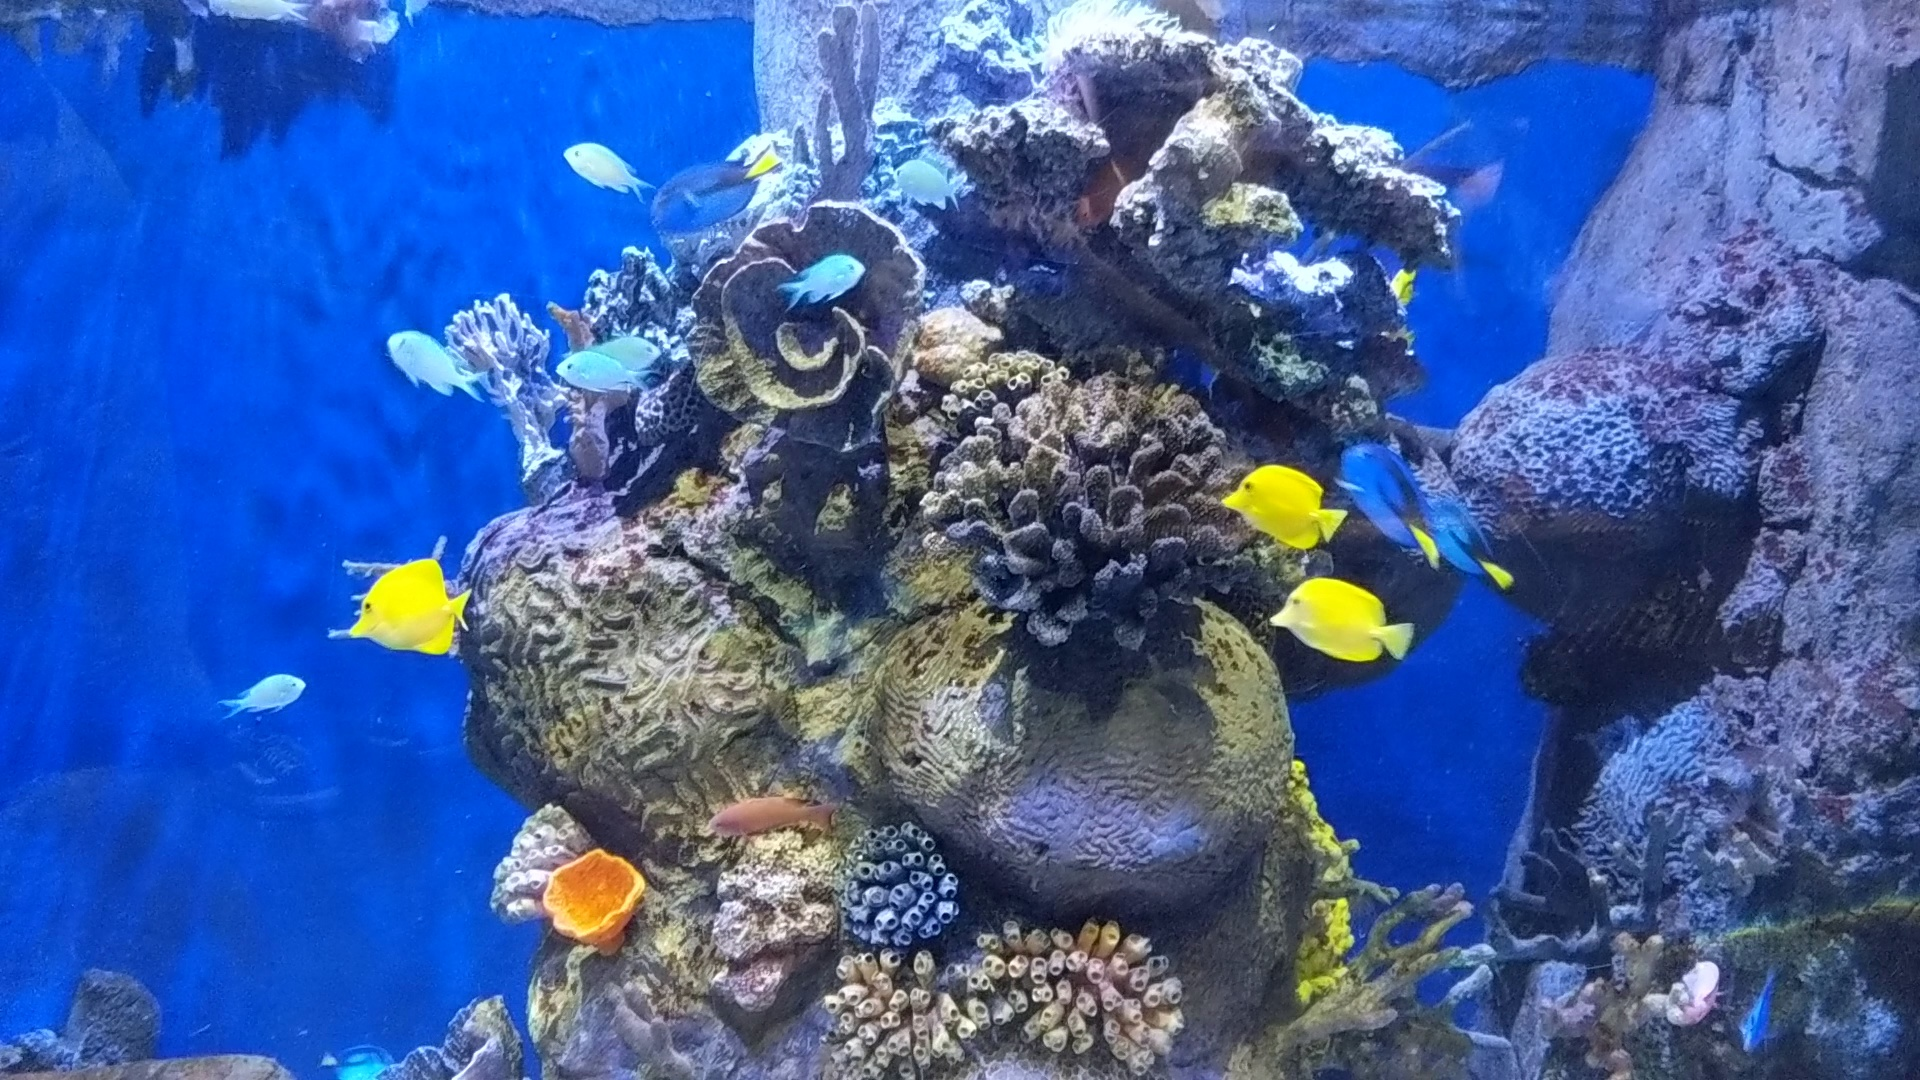blue tang surgeonfish: (1412, 483, 1530, 607), (654, 133, 783, 241), (1336, 442, 1443, 570), (1738, 957, 1787, 1047), (314, 1044, 402, 1079)
damselfish: (375, 324, 498, 415), (556, 129, 655, 211), (765, 255, 861, 313), (550, 353, 647, 407), (208, 665, 309, 713), (887, 156, 965, 215)
pink fish: (699, 781, 835, 843)
saddle butterfly fish: (334, 558, 477, 669), (1262, 574, 1410, 676), (1215, 468, 1348, 554)
